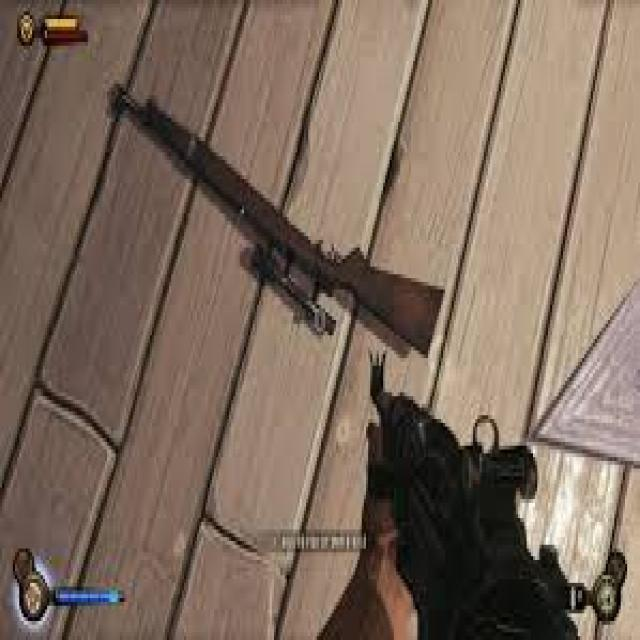weapon: (108, 70, 448, 356), (369, 344, 592, 640)
